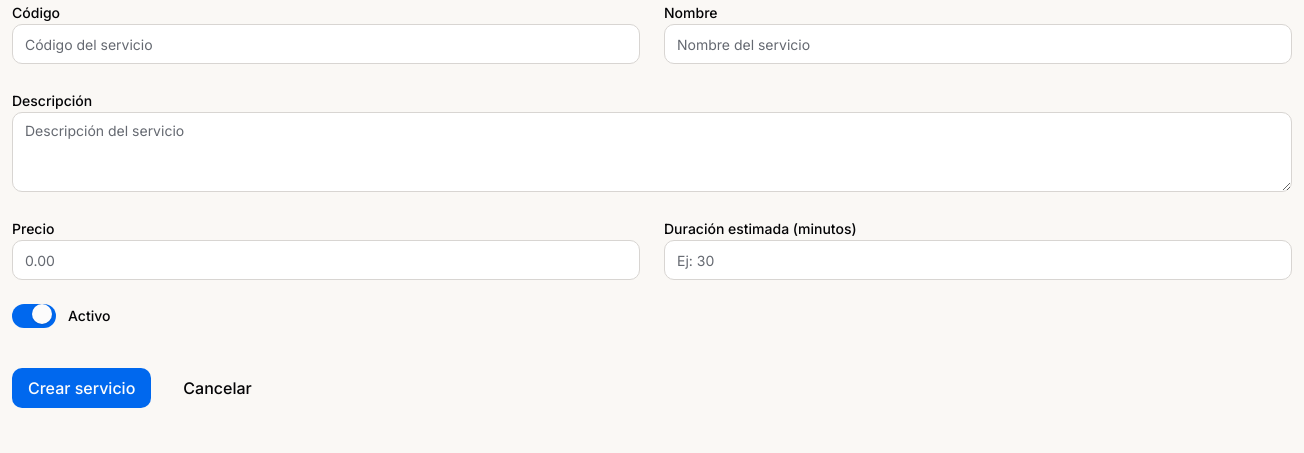
ServiceForm › shows validation error for price <= 0
In the field labelled "Código": (326, 44) x1=12 y1=24 x2=640 y2=64, type "SRV-001"
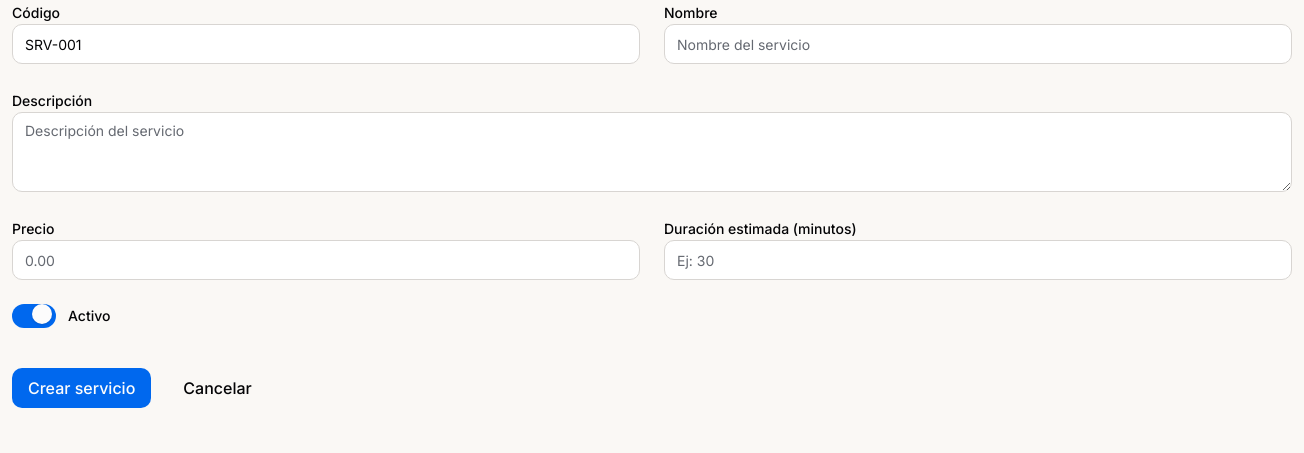
In the field labelled "Nombre": (978, 44) x1=664 y1=24 x2=1292 y2=64, type "Test"
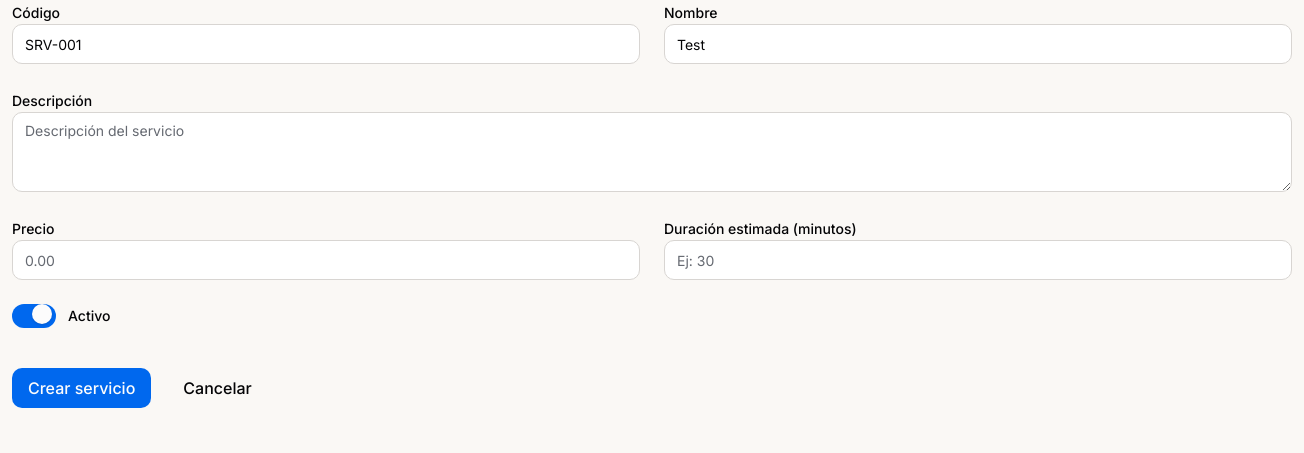
In the number field labelled "Precio": (326, 260) x1=12 y1=240 x2=640 y2=280, type "0"
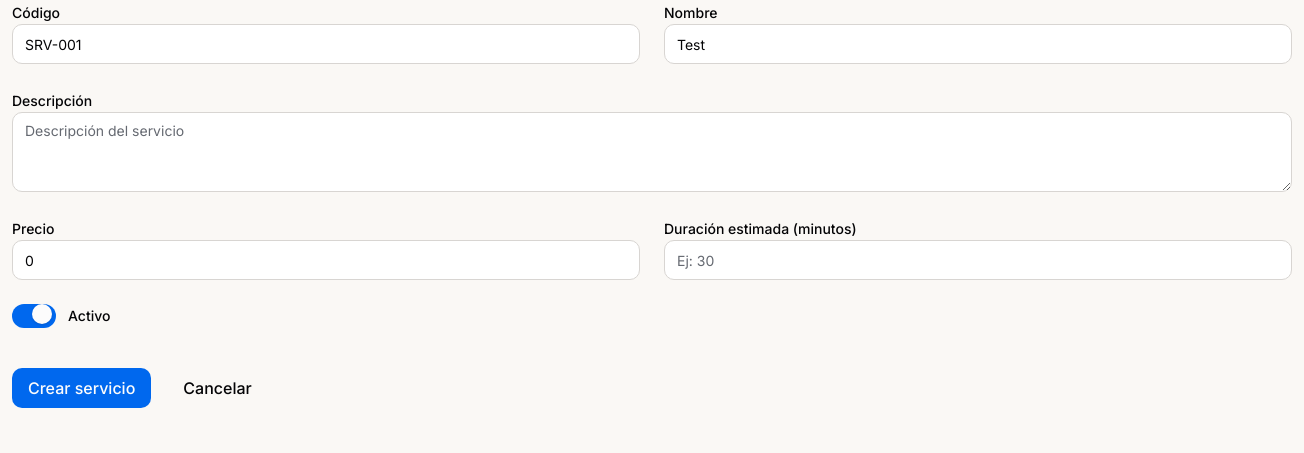
Click the button "Crear servicio": (82, 388) x1=12 y1=368 x2=151 y2=408
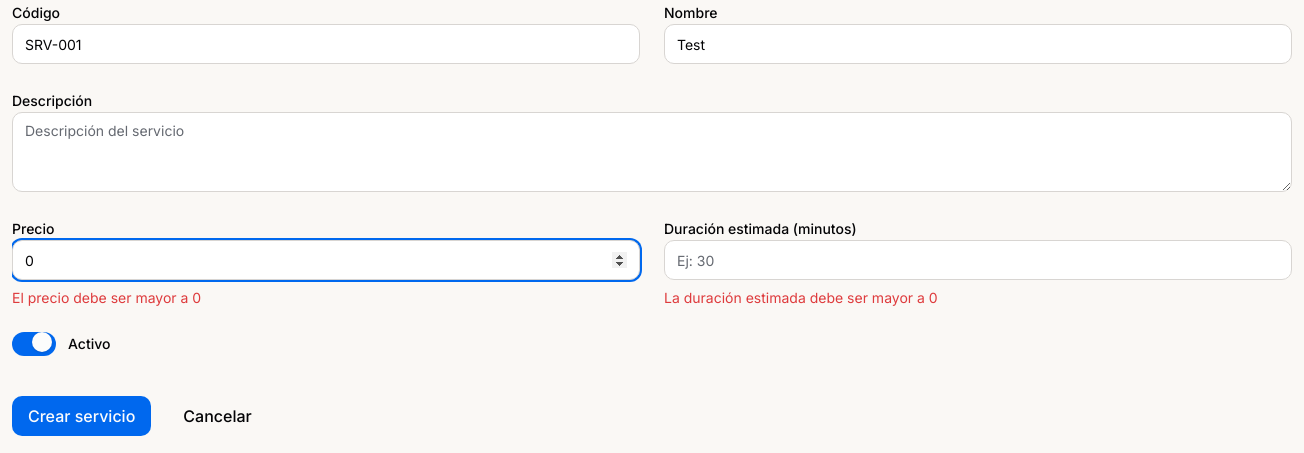
Check: the text "El precio debe ser mayor a 0" is shown, box x1=12 y1=289 x2=201 y2=306
